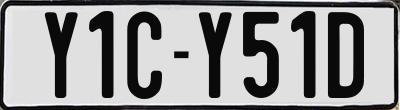1: (289, 11, 315, 102), (86, 10, 111, 98)
5: (243, 11, 283, 99)
C: (126, 8, 166, 99)
D: (325, 12, 364, 99)
Y: (196, 9, 235, 100), (45, 11, 82, 97)
